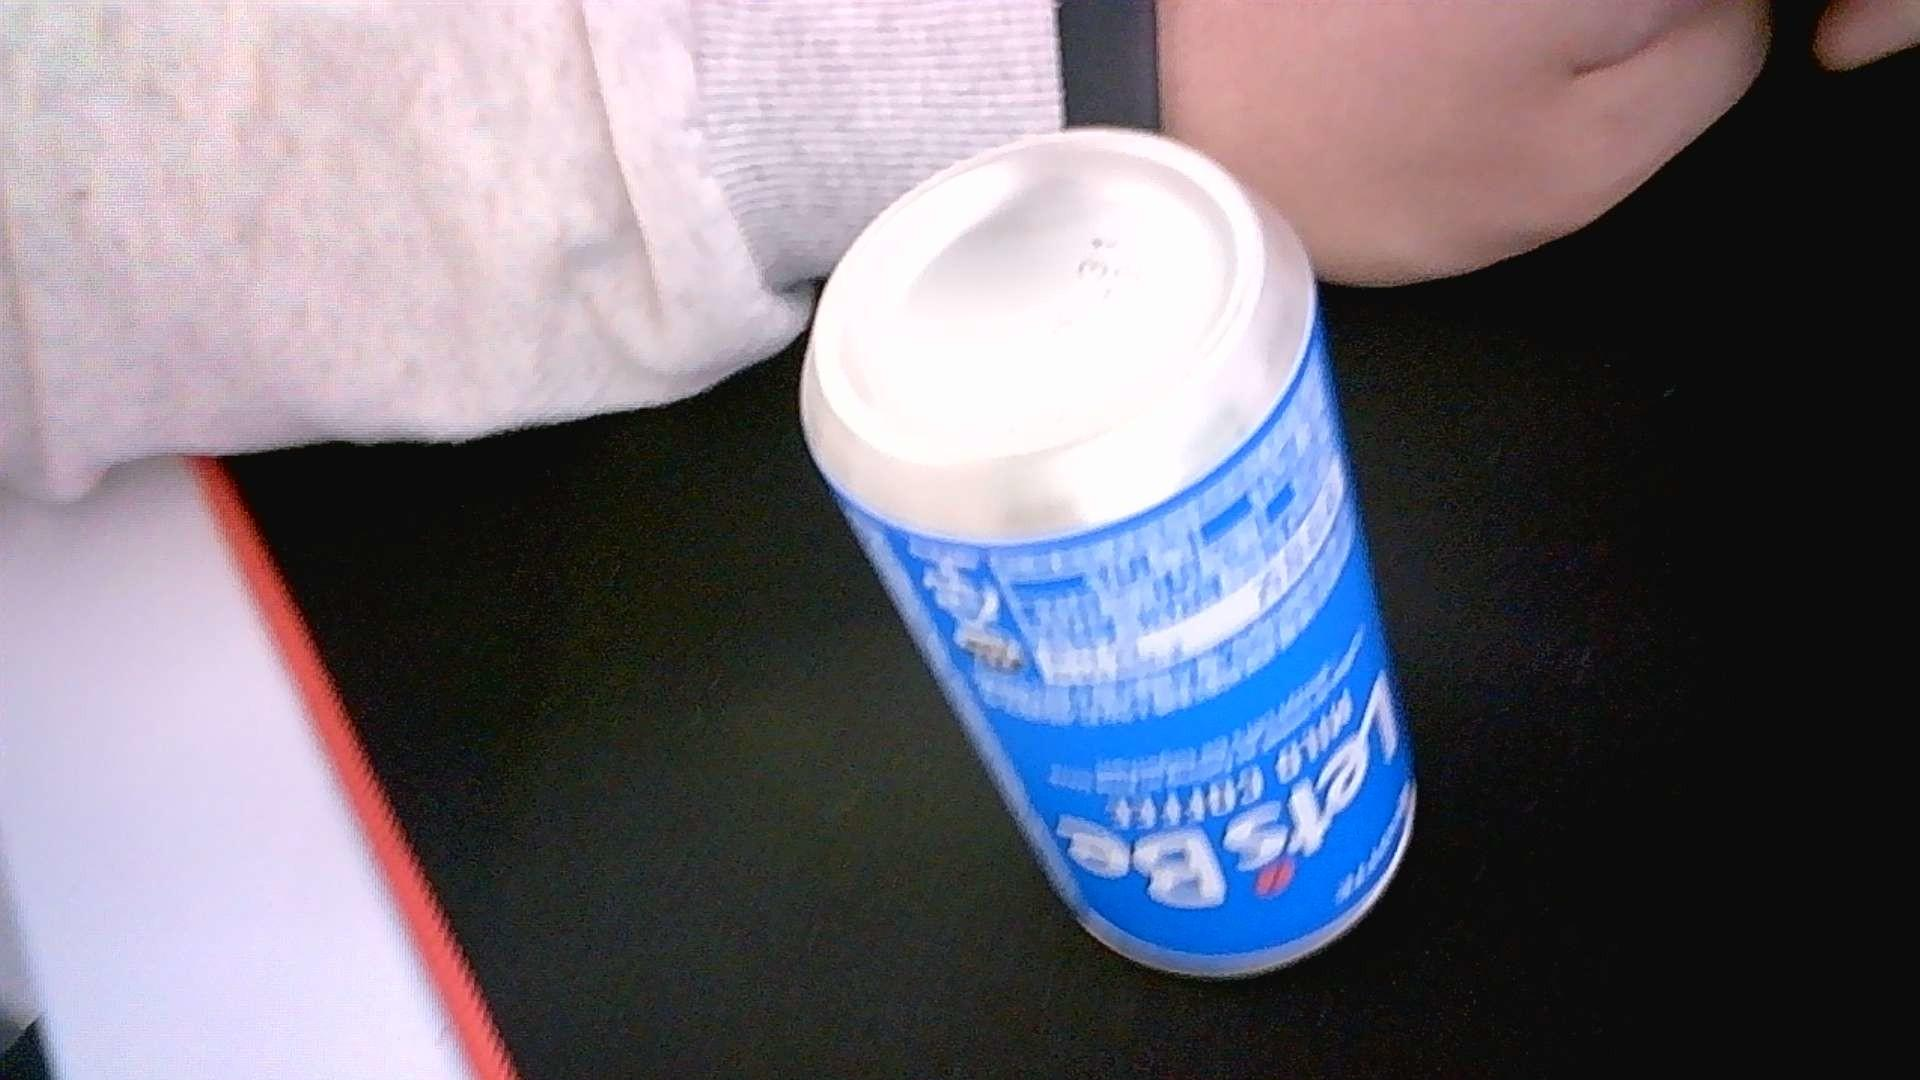letsbe: (800, 127, 1416, 977)
